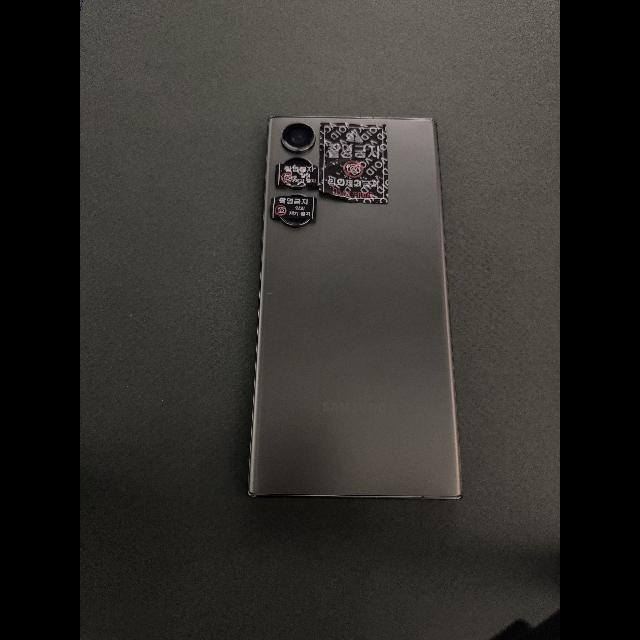lens: (281, 122, 315, 153), (281, 218, 312, 227), (283, 157, 312, 165)
phone: (248, 116, 462, 499)
sticker: (319, 123, 389, 204), (269, 196, 317, 220), (274, 164, 320, 187)
